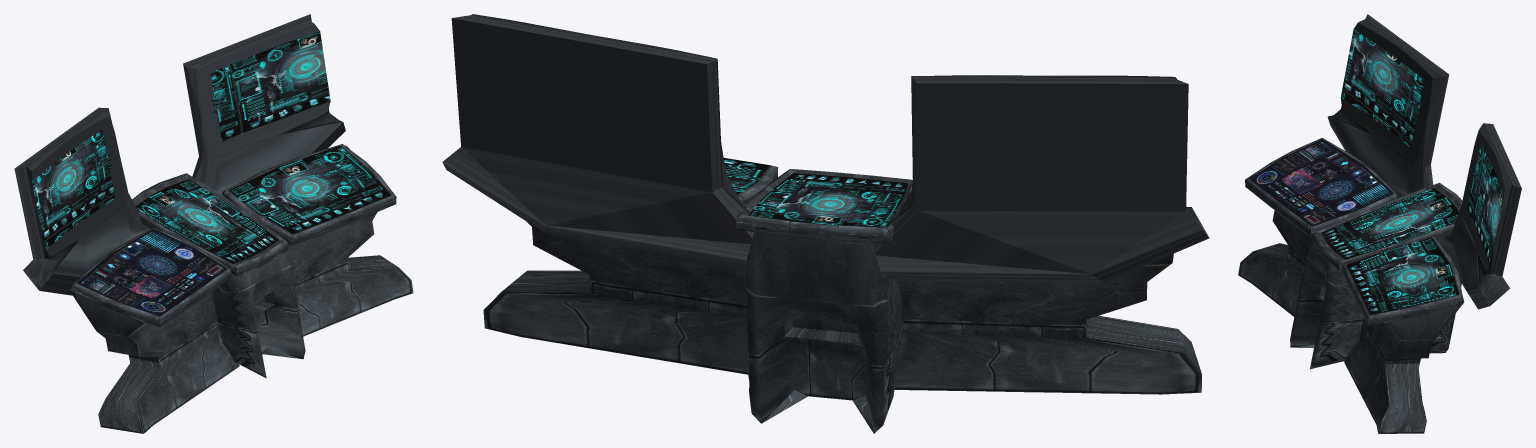
The model's file is sci-fi_computer_desk_console.glb.
3 views of the same model, side by side, from view 1: azimuth 30°, elevation 25°; view 2: azimuth 150°, elevation 25°; view 3: azimuth 270°, elevation 25° (orthographic). The views are drawn at different scales.
Visible parts, largest first — view 1: MaterialFBXASC032FBXASC0352142146907, MaterialFBXASC032FBXASC03511186, MaterialFBXASC032FBXASC0352142146802; view 2: MaterialFBXASC032FBXASC0352142146907, MaterialFBXASC032FBXASC03511186; view 3: MaterialFBXASC032FBXASC0352142146907, MaterialFBXASC032FBXASC03511186, MaterialFBXASC032FBXASC0352142146802.
Part boxes in pixels (x1,y1,x2,y2): MaterialFBXASC032FBXASC0352142146907: (14,14,413,433); MaterialFBXASC032FBXASC03511186: (32,31,391,264); MaterialFBXASC032FBXASC0352142146802: (77,229,227,316); MaterialFBXASC032FBXASC0352142146907: (442,14,1209,433); MaterialFBXASC032FBXASC03511186: (723,158,908,227); MaterialFBXASC032FBXASC0352142146907: (1238,14,1521,433); MaterialFBXASC032FBXASC03511186: (1321,29,1503,315); MaterialFBXASC032FBXASC0352142146802: (1249,139,1393,226).
Size of the model in its own units: 14.36 by 8.18 by 8.82.
Materials: 3 (3 with a texture image).
